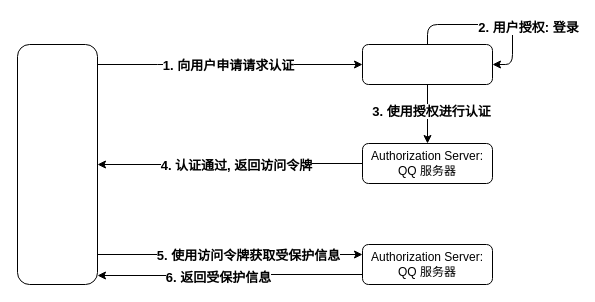
Some shapes in this 595 by 302 pixel diagram are drawn without their labels. The centre of each missing label's shape, as x and y in pixels:
"client" belongs at (x=57, y=164).
"resource owner" belongs at (x=427, y=64).
